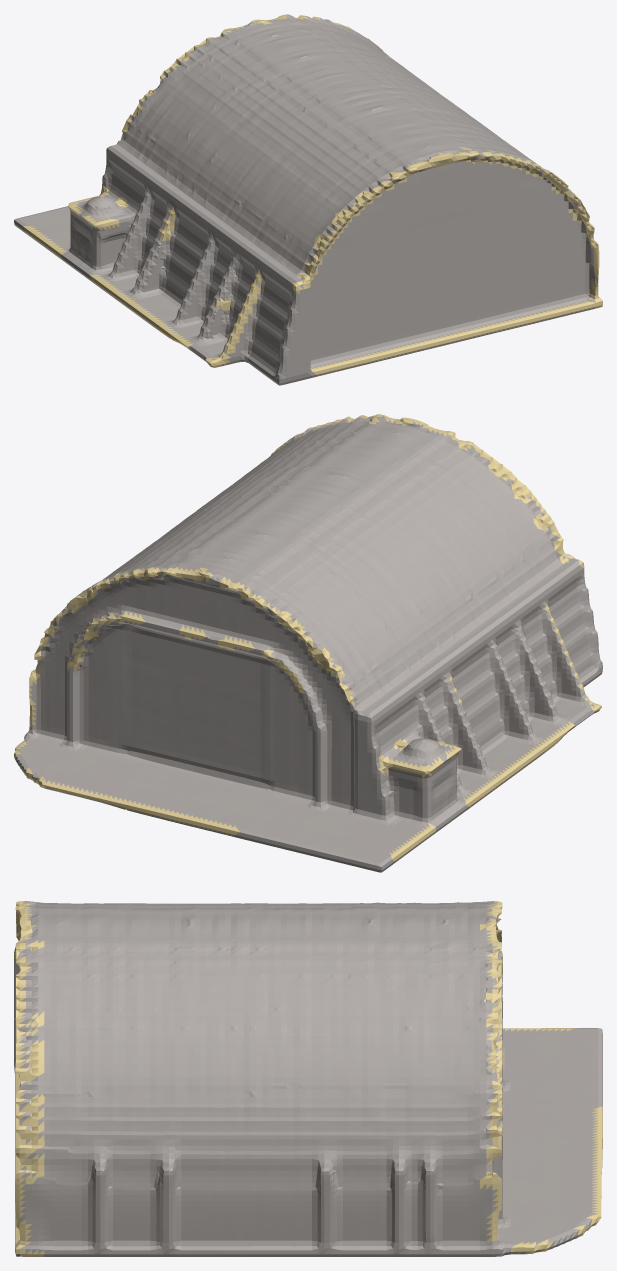
File: bld_airfield.glb
3 renders of one model, top to bottom at view 1: azimuth 30°, elevation 25°; view 2: azimuth 150°, elevation 25°; view 3: azimuth 270°, elevation 25°, orthographic. The views are drawn at different scales.
Parts seen in each view (by area): view 1: Mesh_0.004; view 2: Mesh_0.004; view 3: Mesh_0.004.
Boxes of the visible parts, <box> form: Mesh_0.004: <box>14,14,602,385</box>; Mesh_0.004: <box>14,414,602,872</box>; Mesh_0.004: <box>14,901,602,1256</box>.
Size of the model in its own units: 5.36 by 2.68 by 6.
